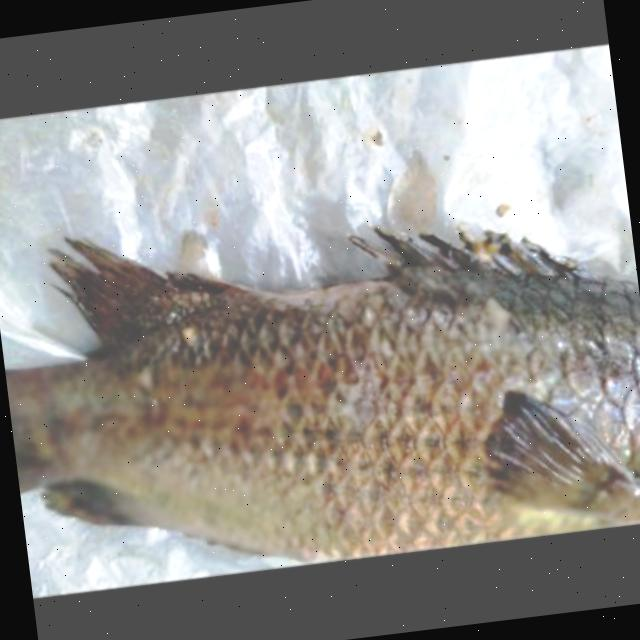Columnaris Disease: (6, 231, 640, 561)
